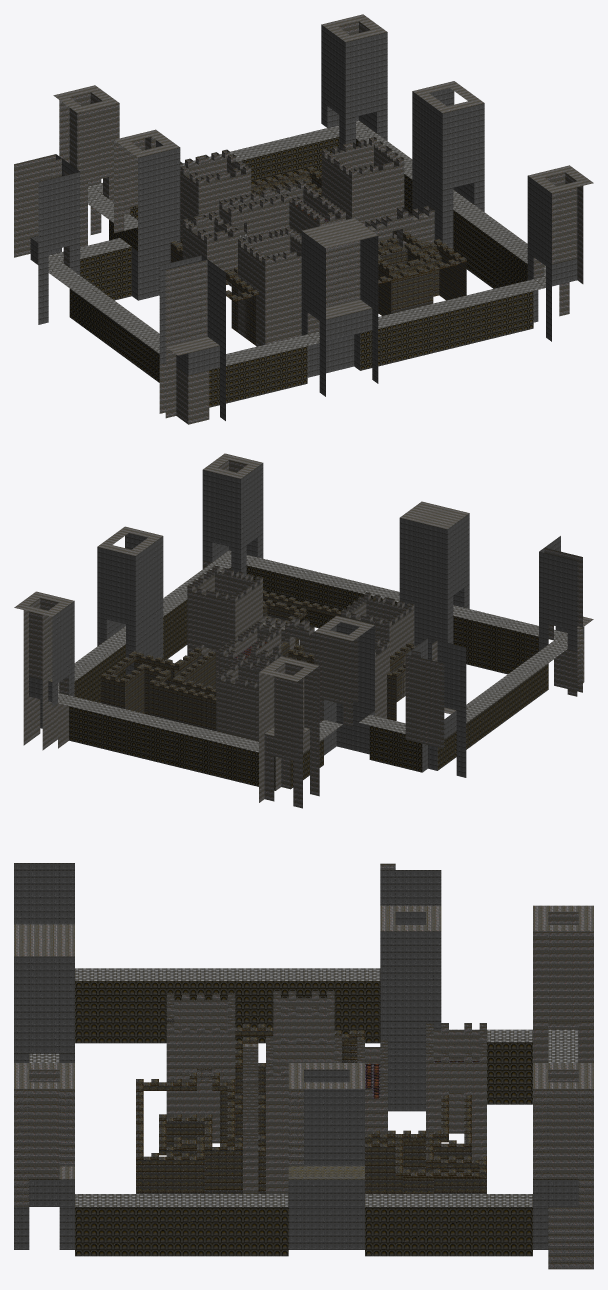
File: MAP.obj
3 views of the same model, one above another, from view 1: azimuth 30°, elevation 25°; view 2: azimuth 150°, elevation 25°; view 3: azimuth 270°, elevation 25° (orthographic). The views are drawn at different scales.
Parts seen in each view (by area): view 1: MAP; view 2: MAP; view 3: MAP.
Boxes of the visible parts, bbox=[...] form: MAP: bbox=[14, 14, 593, 424]; MAP: bbox=[14, 453, 593, 808]; MAP: bbox=[14, 863, 593, 1269].
Size of the model in its own units: 78 by 27.25 by 76.
Materials: 9 (9 with a texture image).
